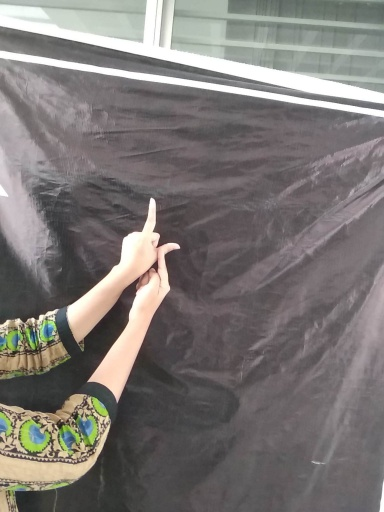dh: (111, 190, 181, 327)
